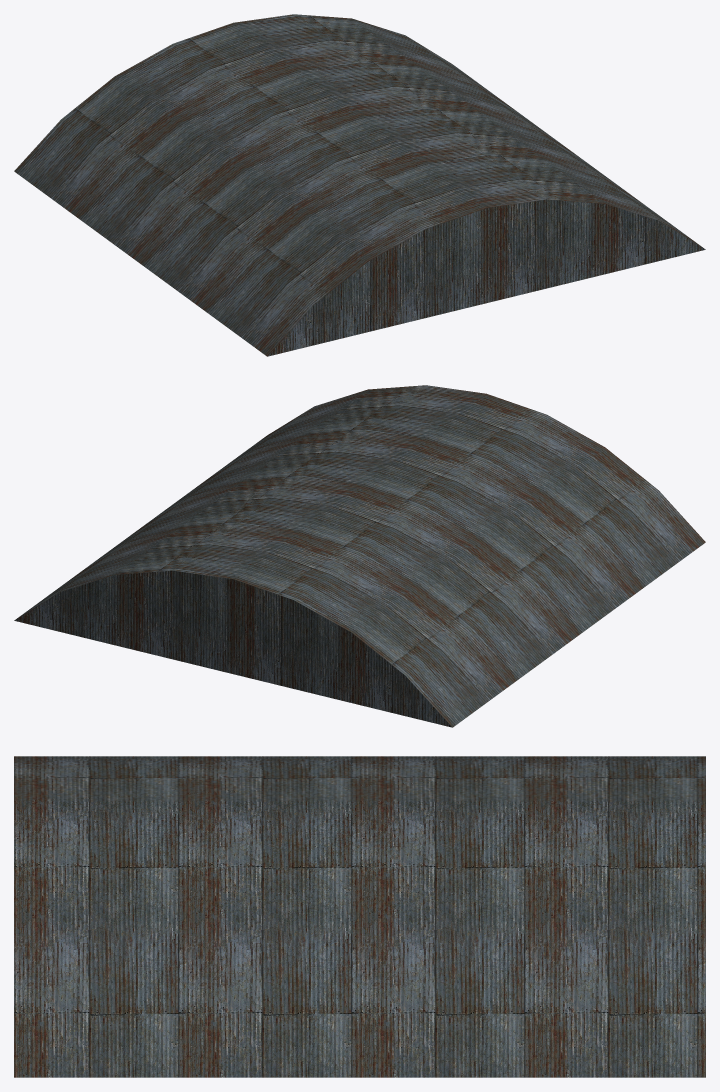
Rendered from warehouse_hs_1_roof_1.glb.
The picture shows the model from 3 angles, top to bottom: view 1: azimuth 30°, elevation 25°; view 2: azimuth 150°, elevation 25°; view 3: azimuth 270°, elevation 25°; orthographic projection. The views are drawn at different scales.
Visible parts, largest first — view 1: warehouse_hs_1_roof_1; view 2: warehouse_hs_1_roof_1; view 3: warehouse_hs_1_roof_1.
Boxes of the visible parts, x1,y1,x2,y2 form: warehouse_hs_1_roof_1: (14, 14, 705, 356); warehouse_hs_1_roof_1: (14, 385, 705, 727); warehouse_hs_1_roof_1: (14, 756, 705, 1077).
Size of the model in its own units: 8 by 1.66 by 8.
2 materials, 2 textured.
